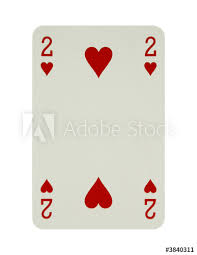two of hearts: (33, 26, 166, 227)
